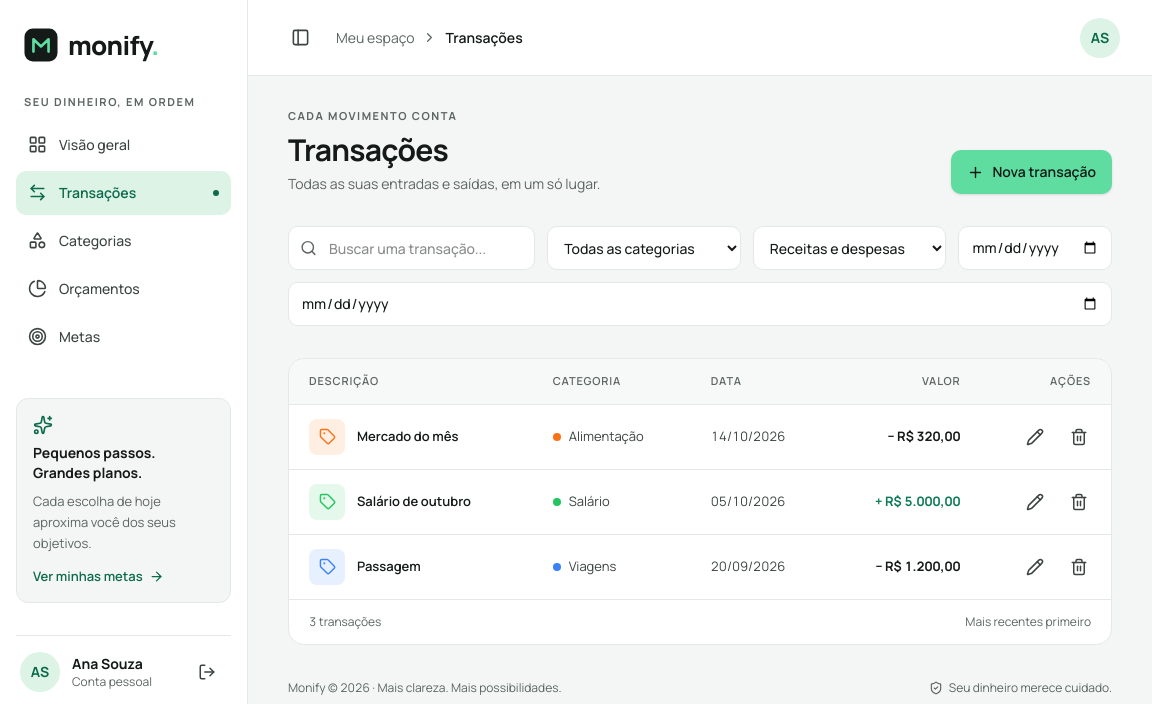
Test: Transações › deve validar valor, categoria e data futura antes de enviar
The image size is (1152, 704).
Click the button "Nova transação".
click(1032, 172)  # box [951, 150, 1112, 194]
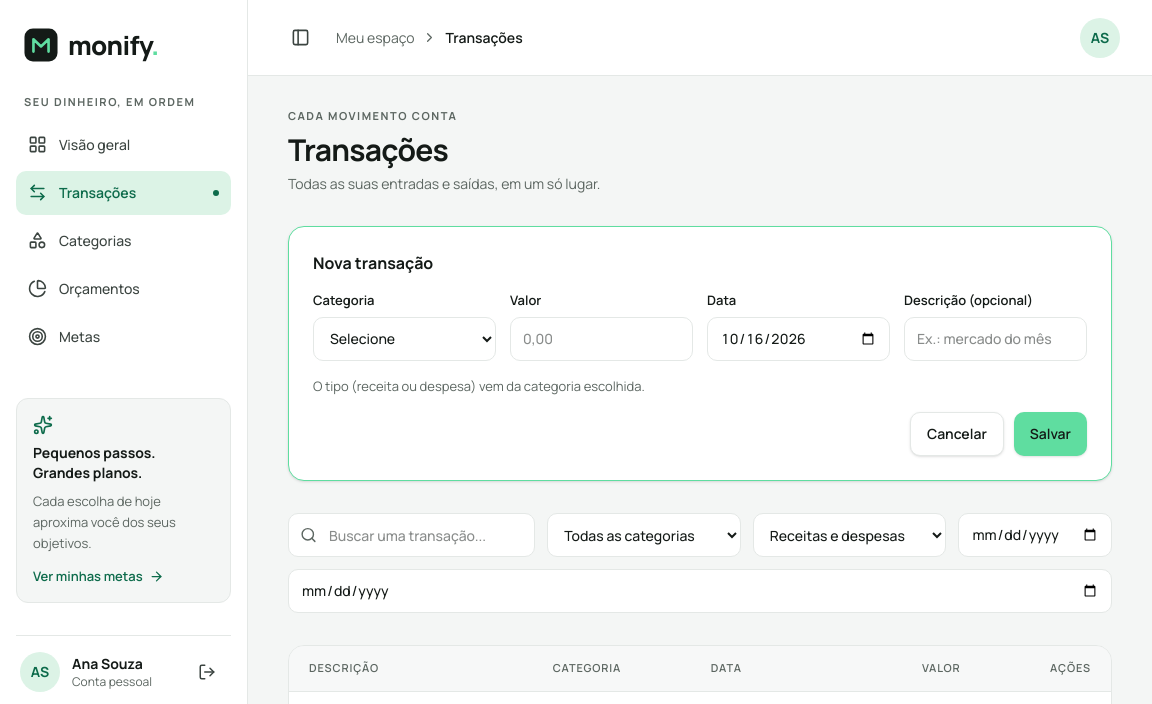
Type "10,999" into the field labelled "Valor".
click(602, 338); type("10,999")  # box [510, 316, 693, 360]
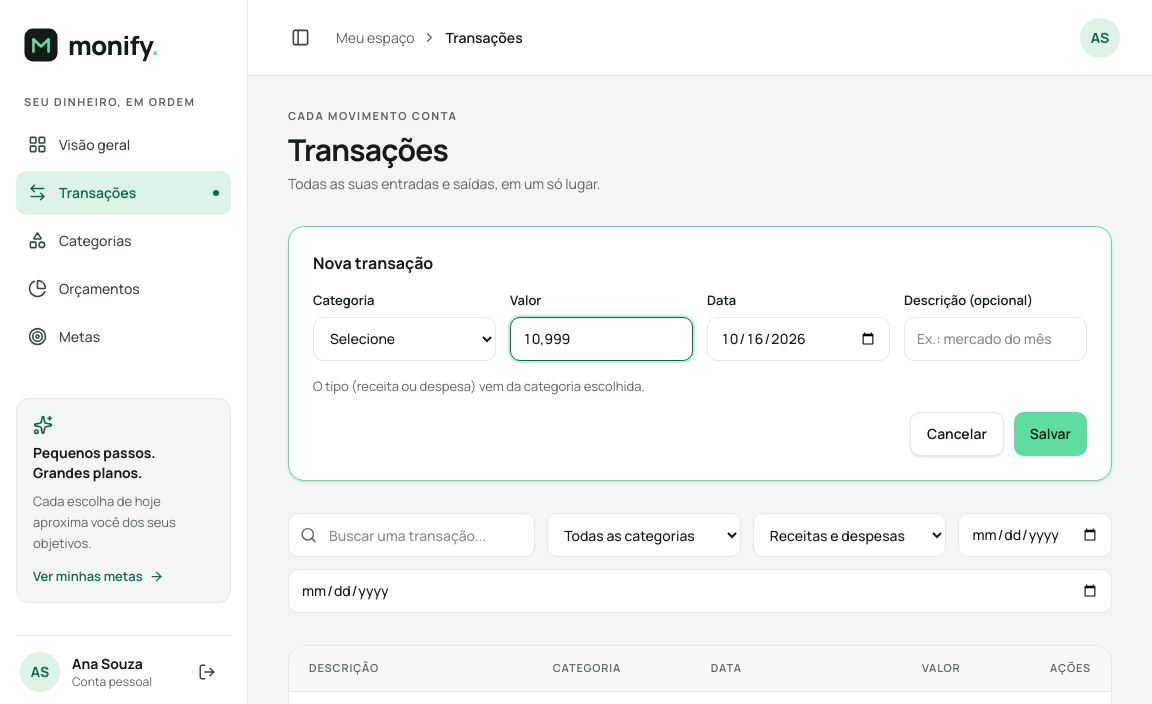
Type "2999-01-01" into the date field labelled "Data".
click(798, 338); type("2999-01-01")  # box [707, 316, 890, 360]
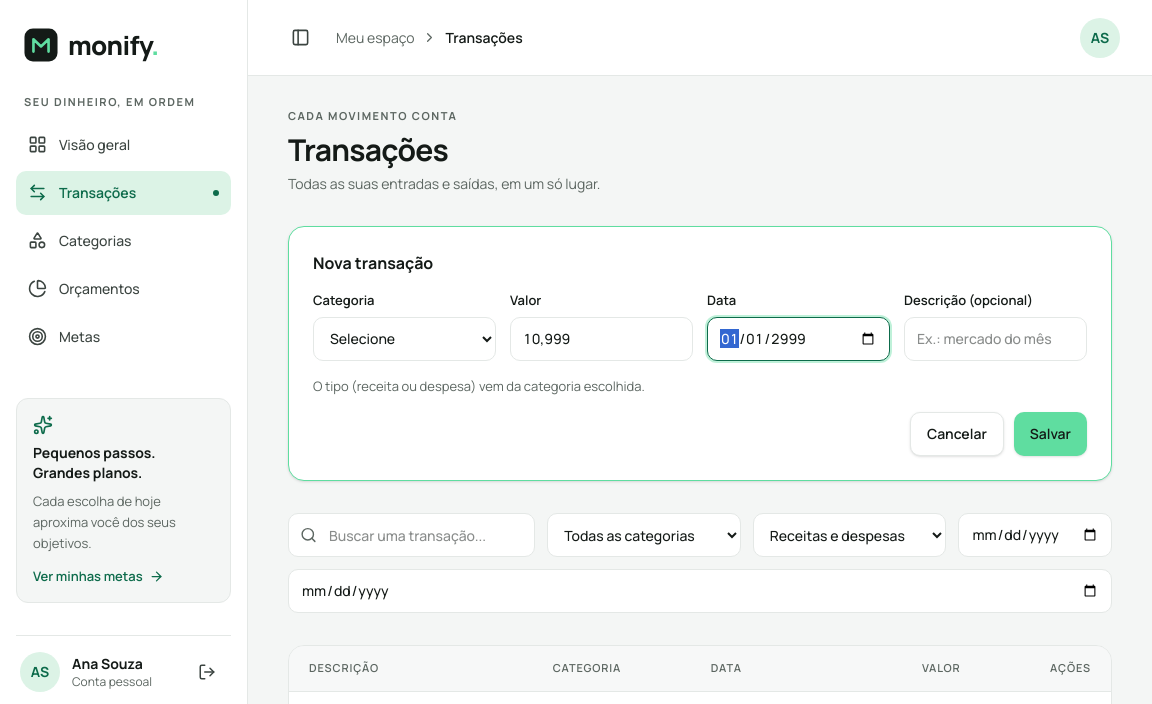
Click the button "Salvar".
click(1050, 434)  # box [1014, 412, 1087, 456]
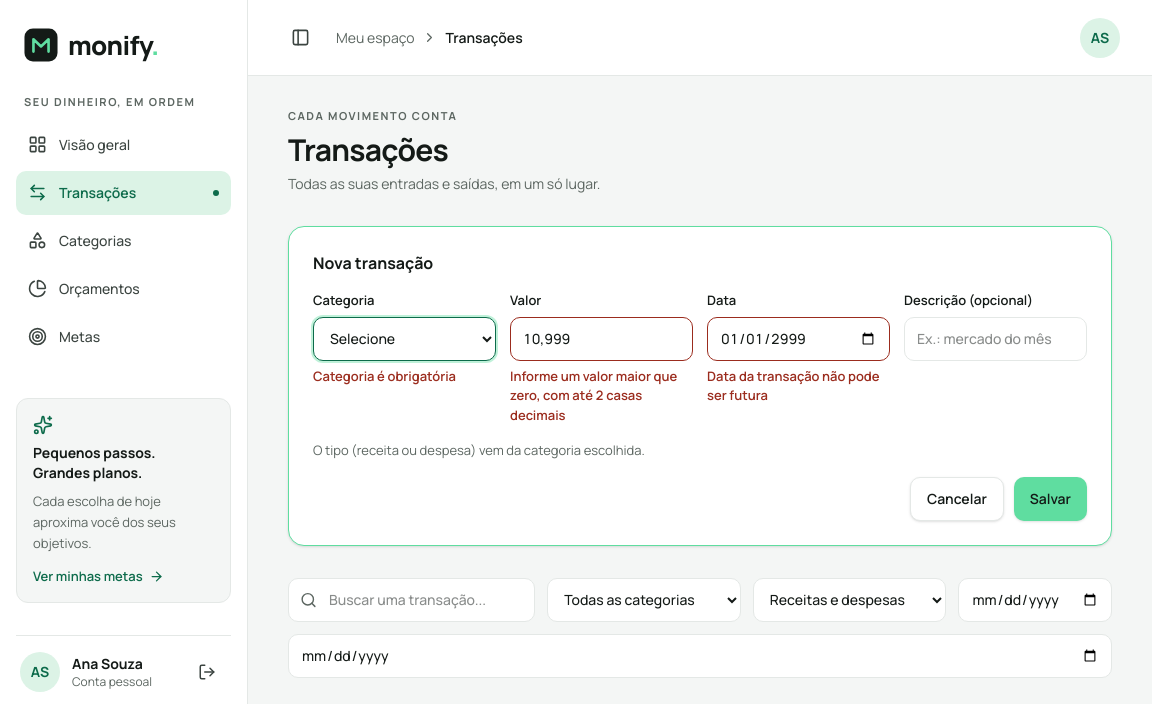
Check: the text "Categoria é obrigatória" is shown, box [313, 366, 456, 384]
Check: the text "Informe um valor maior que zero, com até 2 casas decimais" is shown, box [510, 366, 693, 425]
Check: the text "Data da transação não pode ser futura" is shown, box [707, 366, 890, 406]
